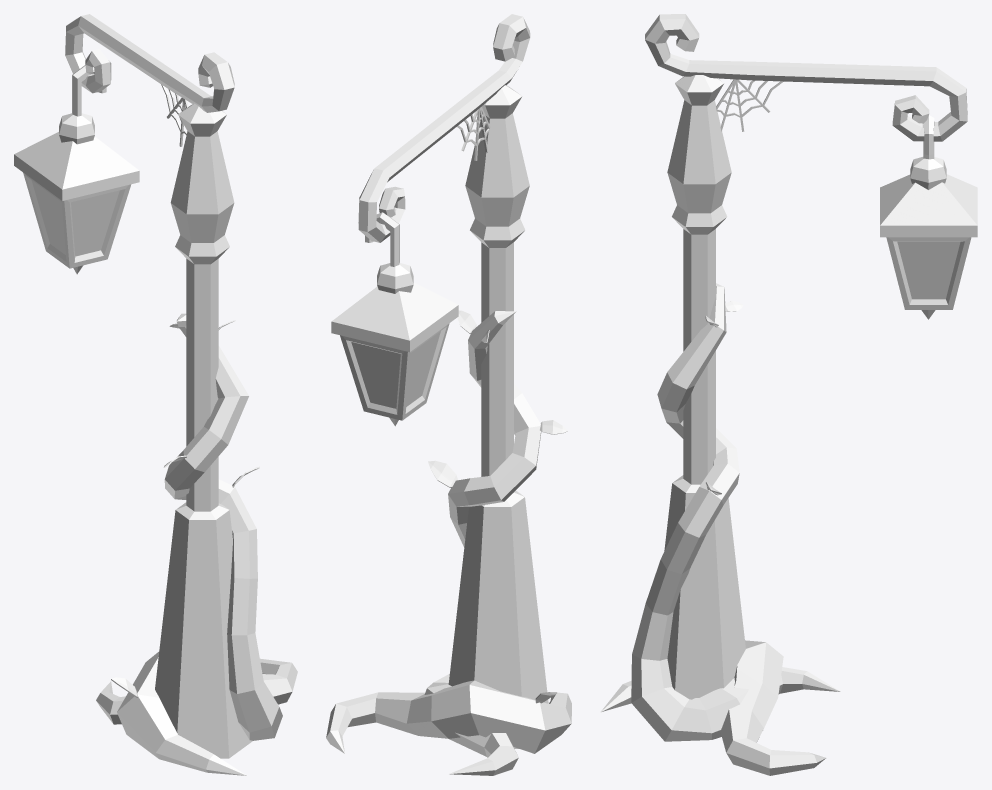
Rendered from large_light.fbx.
The picture shows the model from 3 angles, left to right: view 1: azimuth 30°, elevation 25°; view 2: azimuth 150°, elevation 25°; view 3: azimuth 270°, elevation 25°; orthographic projection.
Parts seen in each view (by area): view 1: Street lamp_A.001; view 2: Street lamp_A.001; view 3: Street lamp_A.001.
Part boxes in pixels (box(x1,y1,x2,y2)): Street lamp_A.001: box(14, 14, 297, 775); Street lamp_A.001: box(326, 14, 571, 775); Street lamp_A.001: box(600, 14, 977, 775).
Bounding box in the file's own units: 18.18 × 58.44 × 28.64.
